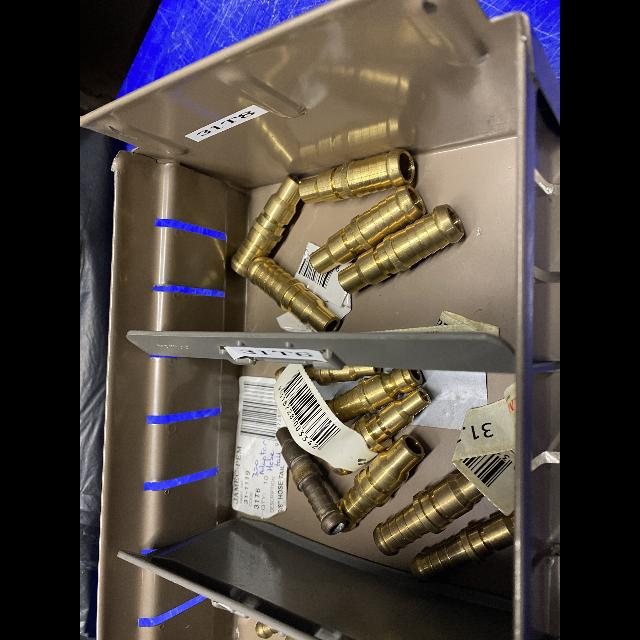Brass: (338, 205, 464, 293), (311, 186, 426, 272), (373, 472, 483, 555), (338, 435, 424, 532), (276, 428, 349, 535), (411, 511, 514, 579), (231, 177, 300, 277), (246, 257, 339, 331), (299, 148, 417, 203), (326, 369, 424, 422), (352, 388, 431, 453), (255, 622, 278, 638)
